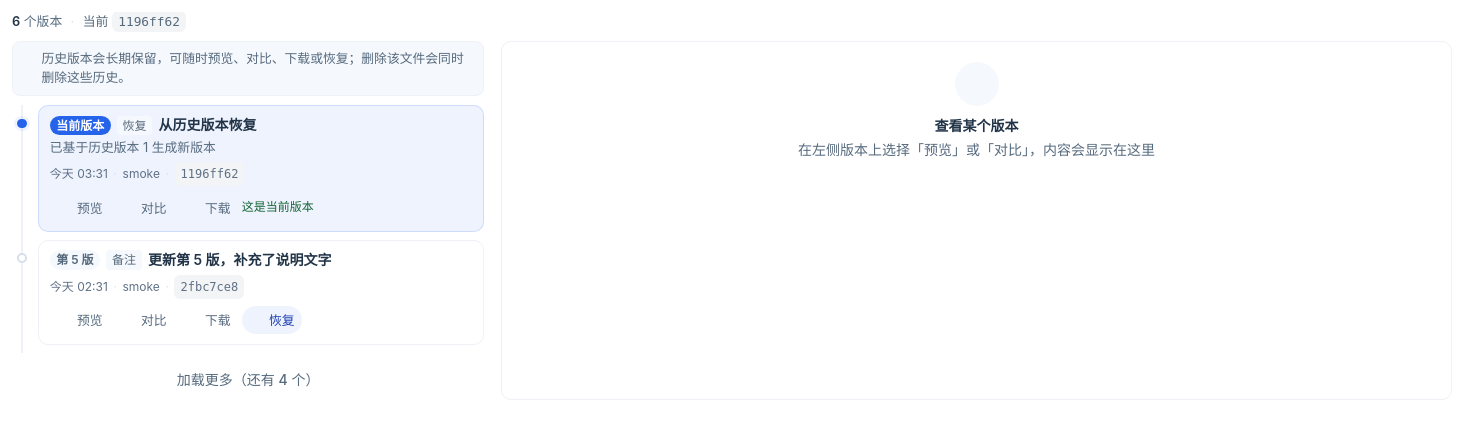
Test: VersionHistory.vue › aborts stale version diff loads and ignores late responses
Expected: the number of list items with class "history-row" is 2, x1=12 y1=105 x2=484 y2=240; x1=12 y1=240 x2=484 y2=353
Click the button "对比" in the row of "这是当前版本".
click(144, 207)  # box x1=114 y1=193 x2=174 y2=221
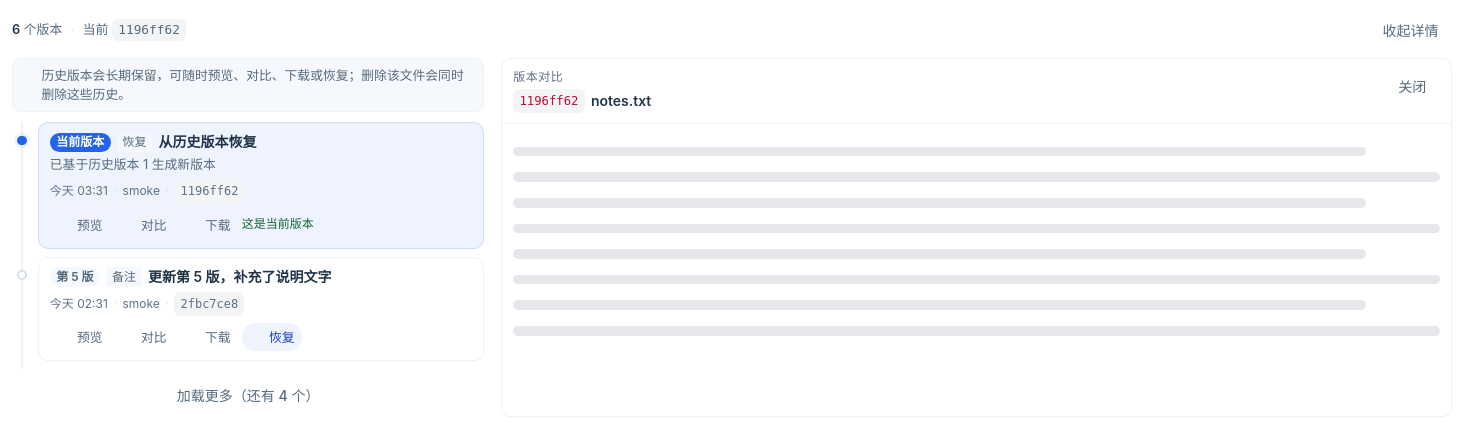
Click the button "对比" below "今天 02:31".
click(144, 337)  # box x1=114 y1=323 x2=174 y2=351
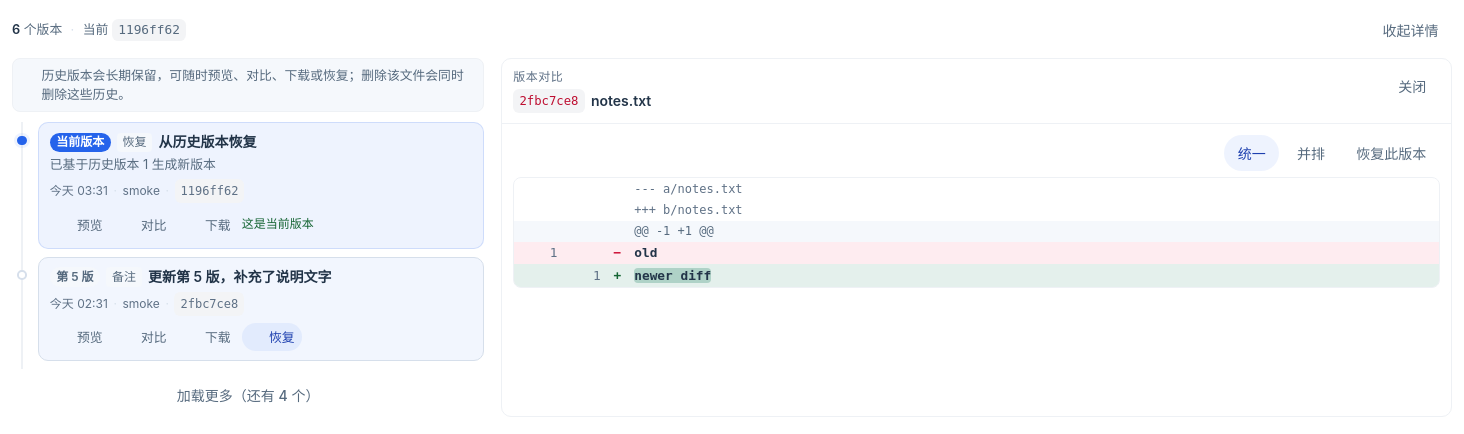
Now the element with class "diff-block" shows "newer diff", box x1=634 y1=268 x2=711 y2=283
Now the text "2fbc7ce8" below "版本对比" is shown, box x1=519 y1=94 x2=578 y2=108
